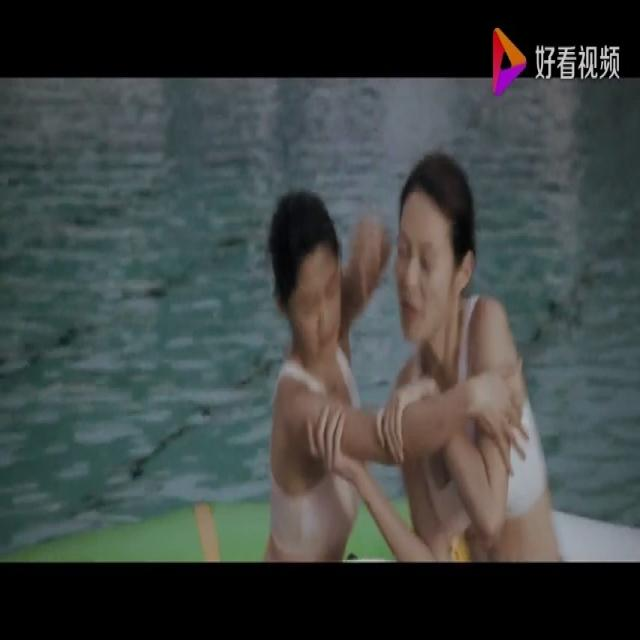fight: (212, 132, 577, 564)
